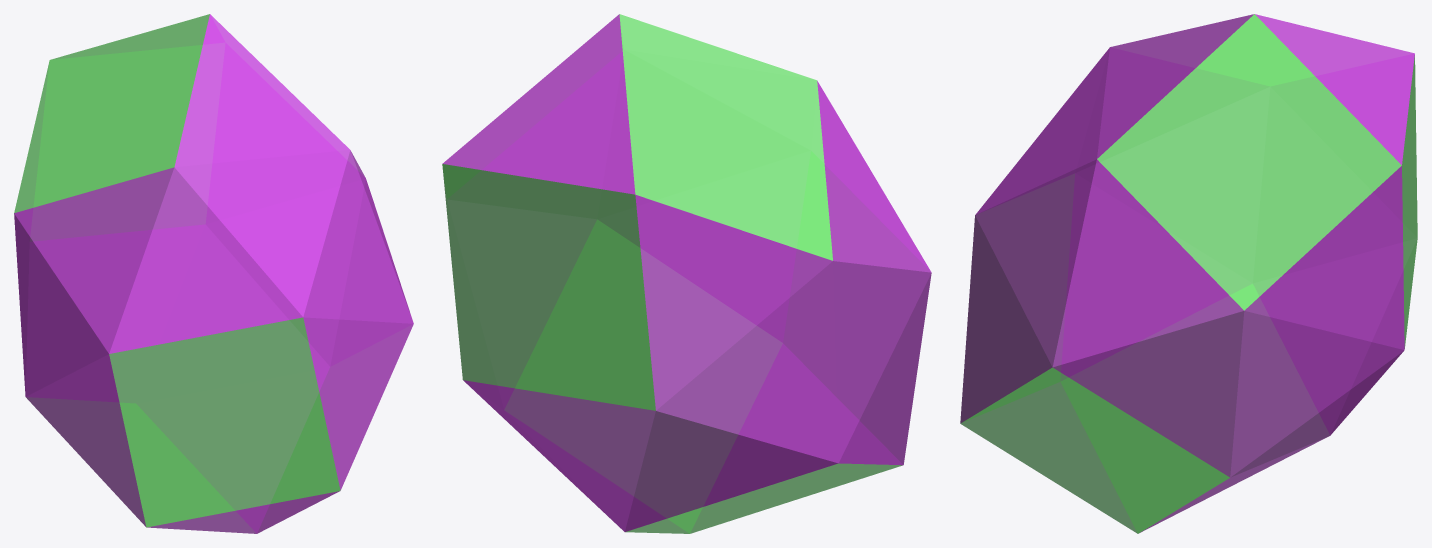
The model's file is j44_gyroelongated_triangular_bicupola.obj.
The picture shows the model from 3 angles, left to right: view 1: azimuth 30°, elevation 25°; view 2: azimuth 150°, elevation 25°; view 3: azimuth 270°, elevation 25°; orthographic projection. The views are drawn at different scales.
Size of the model in its own units: 1.67 by 2.25 by 1.78.
